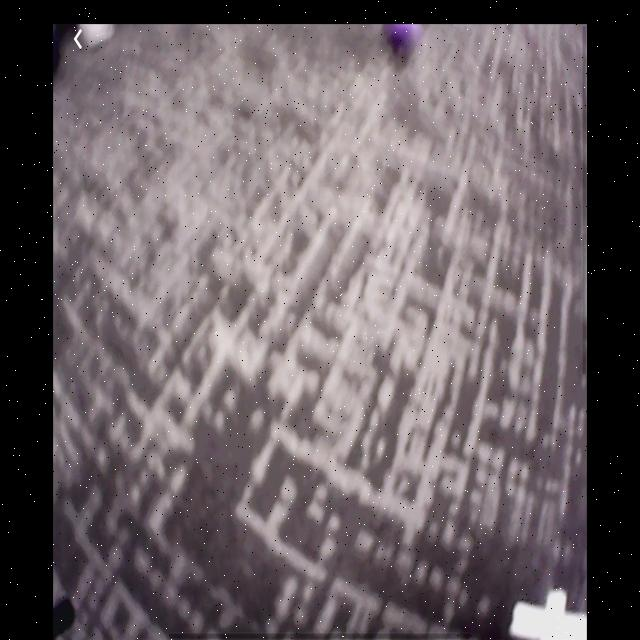ball: (384, 23, 424, 65)
